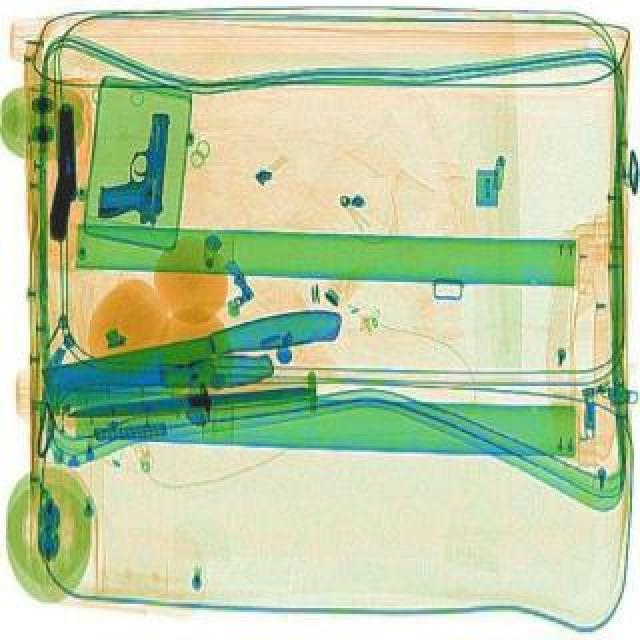gun: (96, 112, 172, 232), (46, 106, 82, 246)
knife: (36, 306, 348, 422), (58, 386, 310, 428), (48, 358, 272, 400)
